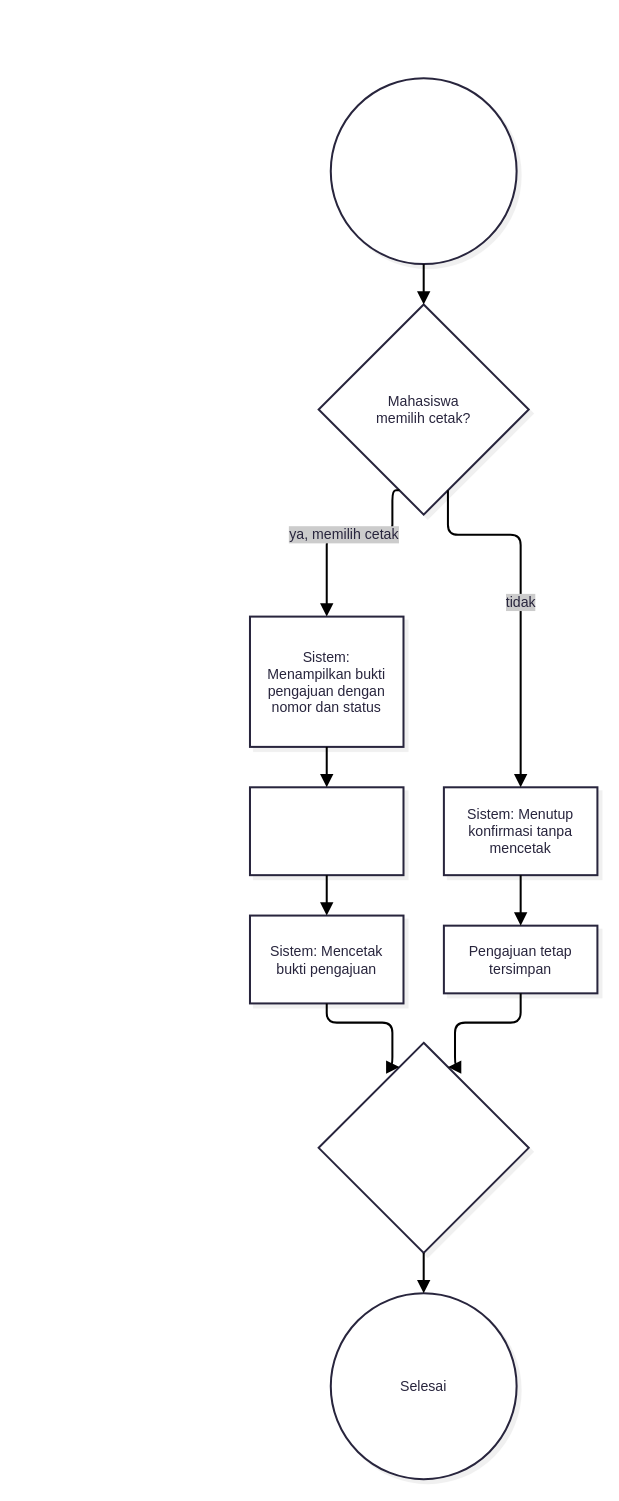
The diagram is 619 pixels wide and 1501 high, and some of its shapes have lost their labels. Each missing label, with the centre of its shape:
"Bukti pengajuan tersedia" goes at (425,173).
"Mahasiswa: Mengonfirmasi pencetakan" goes at (328,833).
"Merge" goes at (425,1149).
